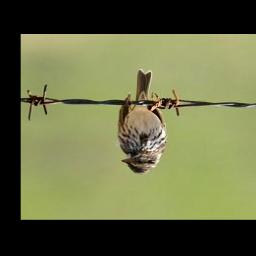Sparrow: (116, 70, 170, 176)
